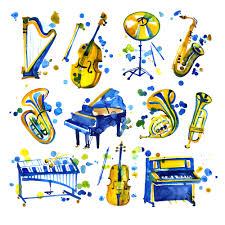Piano: (57, 89, 156, 175), (142, 143, 222, 225)
Saxophone: (167, 3, 215, 83)
Violin: (97, 136, 149, 211)
